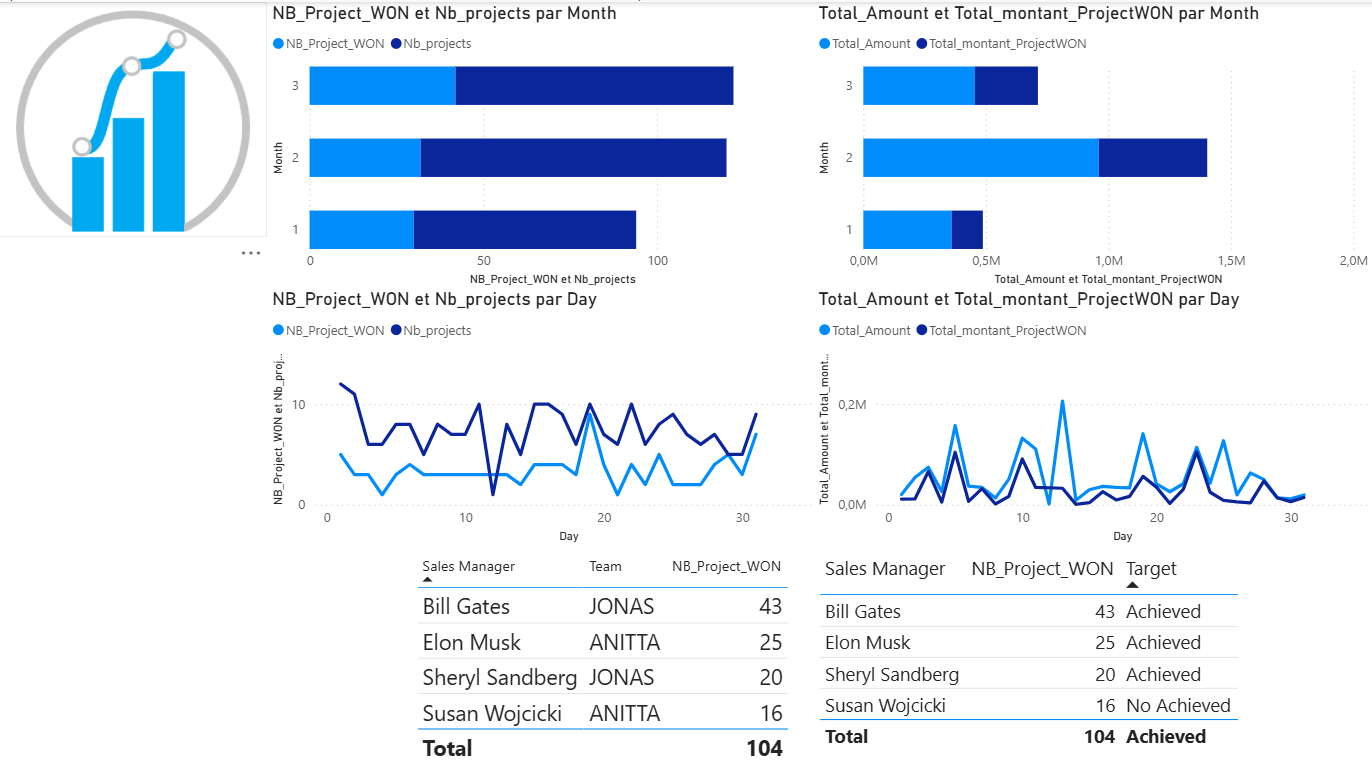

Layout of this report page (visuals, bound fields, positions):
{"tool":"powerbi","page":{"name":"Visualization 2","canvas":[1280,720],"ordinal":1},"visuals":[{"type":"image","box":[0,0,251.5,218.4],"z":0},{"type":"barChart","fields":{"Category":["Project.Month"],"Y":["Project.NB_Project_WON","Project.Nb_projects"]},"box":[251.5,0,507.3,268.7],"z":1000},{"type":"lineChart","fields":{"Category":["Project.Day"],"Y":["Project.NB_Project_WON","Project.Nb_projects"]},"box":[251.5,265.9,521.7,241.4],"z":2000},{"type":"barChart","fields":{"Category":["Project.Month"],"Y":["Project.Total_Amount","Project.Total_montant_ProjectWON"]},"box":[758.8,0,521.7,268.7],"z":3000},{"type":"lineChart","fields":{"Category":["Project.Day"],"Y":["Project.Total_Amount","Project.Total_montant_ProjectWON"]},"box":[758.8,265.9,521.7,241.4],"z":4000},{"type":"tableEx","fields":{"Values":["Sales managers.FullName","Project.NB_Project_WON","Project.Target"]},"box":[758.8,507.3,401,212.7],"z":5000},{"type":"tableEx","fields":{"Values":["Sales managers.FullName","Project.Equipe","Project.NB_Project_WON"]},"box":[385.1,507.3,373.7,212.7],"z":6000}]}

Visuals, with their boxes in screenshot pixels (x1, y1, x2, y2), scaled from the page's 1280x720 canvas onto the 1372x771 screenshot:
image: 0, 0, 270, 234
barChart - Project.Month x Project.NB_Project_WON: 270, 0, 813, 288
lineChart - Project.Day x Project.NB_Project_WON: 270, 285, 829, 543
barChart - Project.Month x Project.Total_Amount: 813, 0, 1371, 288
lineChart - Project.Day x Project.Total_Amount: 813, 285, 1371, 543
tableEx - Sales managers.FullName x Project.NB_Project_WON: 813, 543, 1243, 770
tableEx - Sales managers.FullName x Project.Equipe: 413, 543, 813, 770
